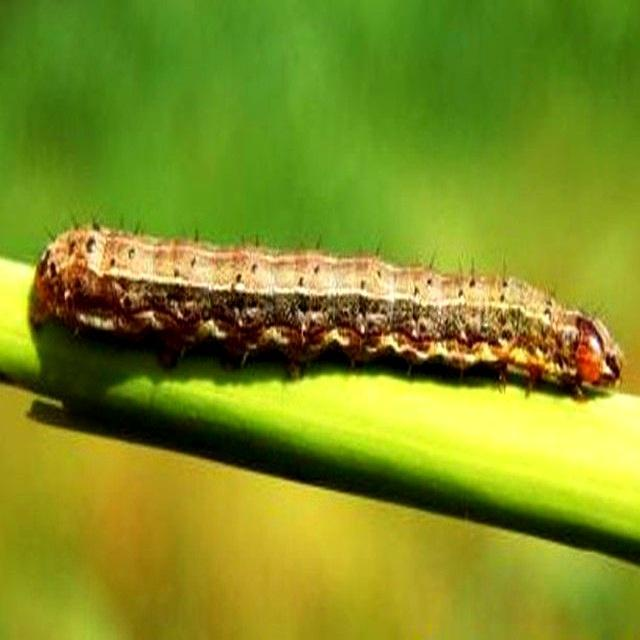worm: (27, 215, 625, 402)
